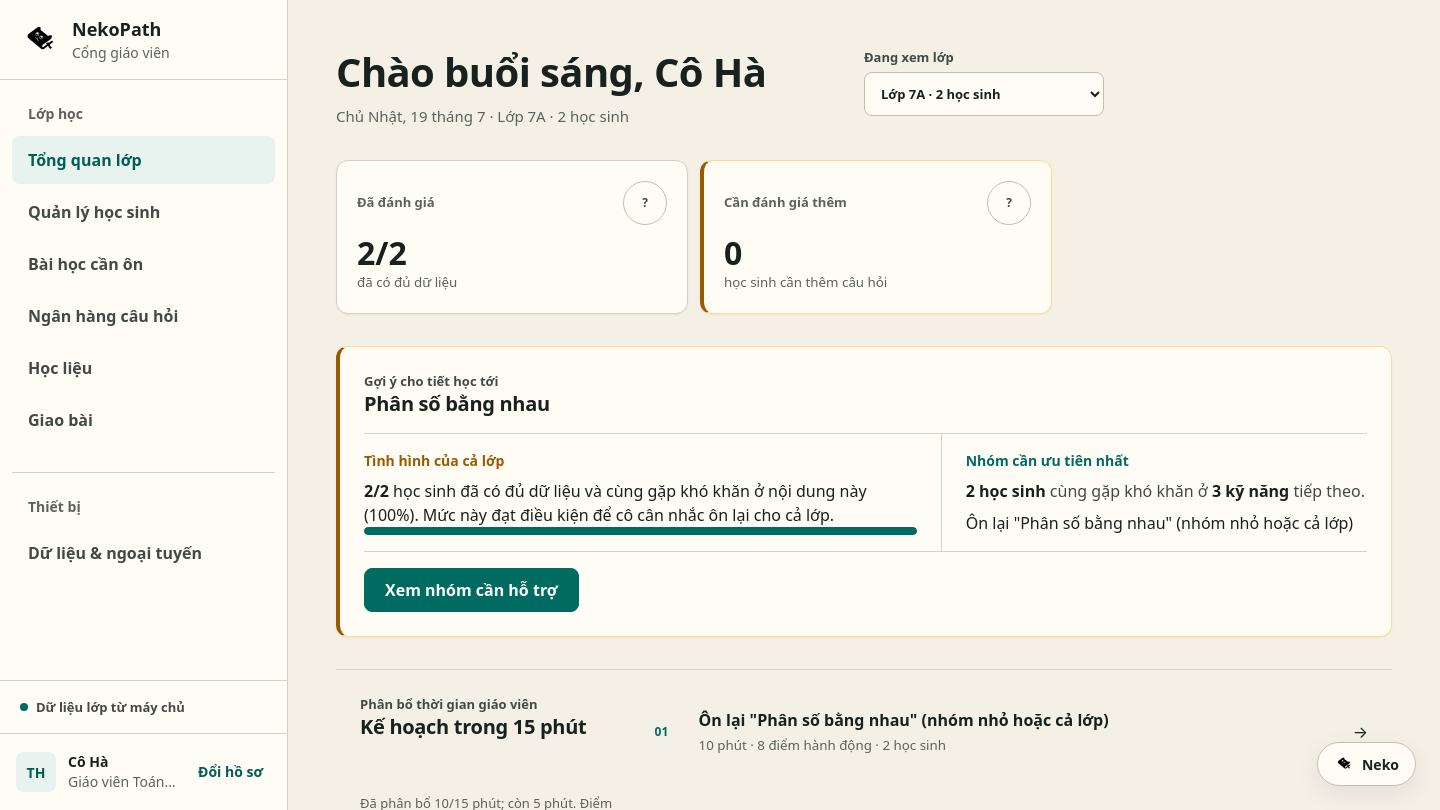
Scenario: NekoPath MVP entry and shell (class-roll dropdown auth, stubbed transport) › keeps the workspace interactive when Neko is a side panel at tablet width
Click the button with aria-label "Mở trợ lý Neko" at (1366, 764), box [1317, 742, 1416, 786]
(page scrolled)
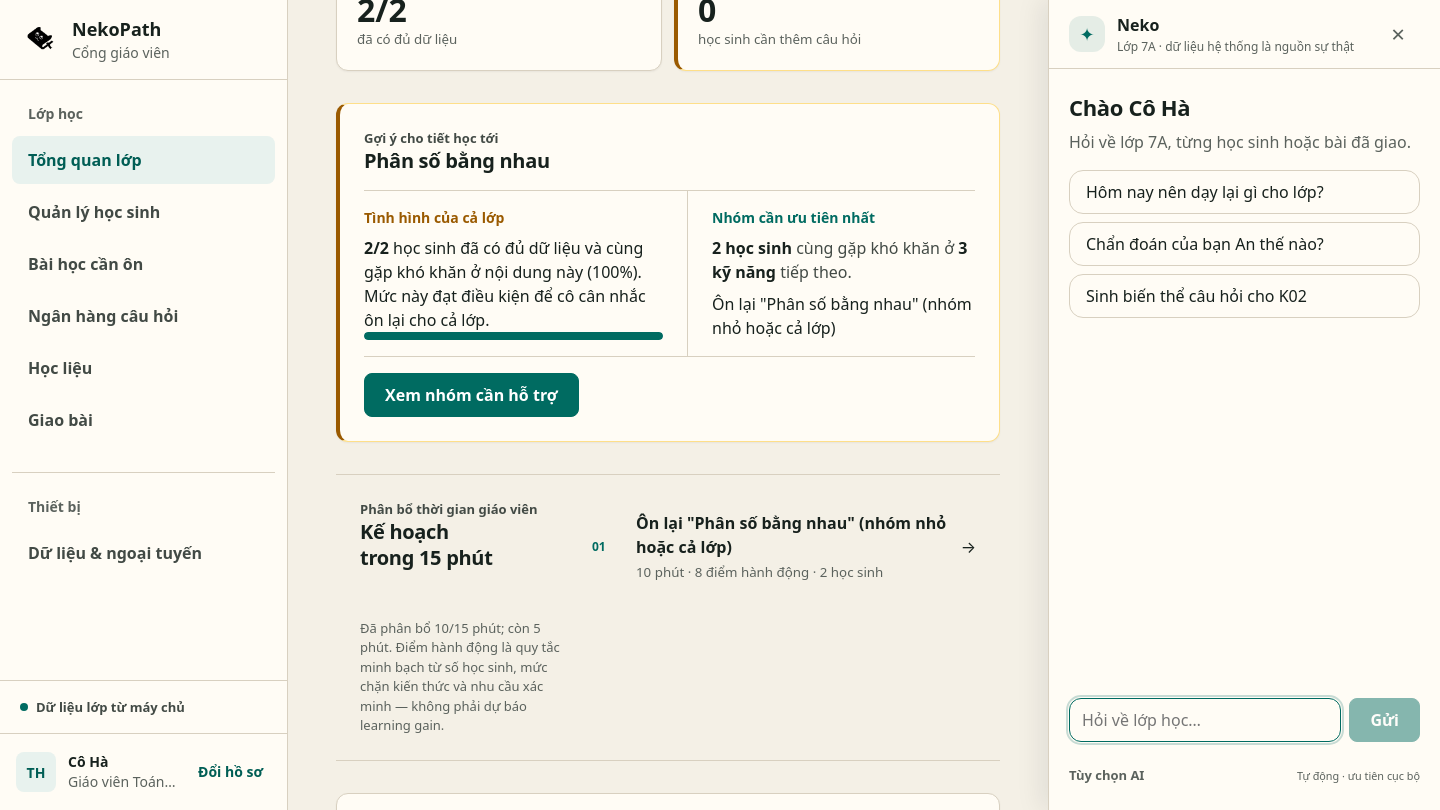
Expected: the element named "Neko — trợ lý lớp học" is shown, [1048, 0, 1439, 809]
